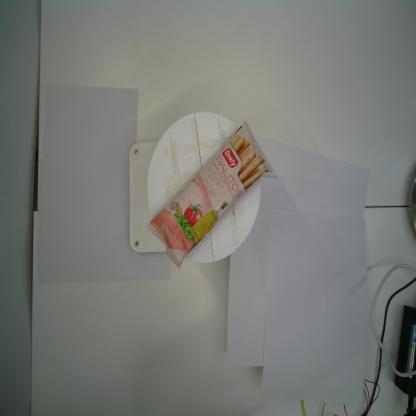Dessert: (144, 118, 276, 270)
